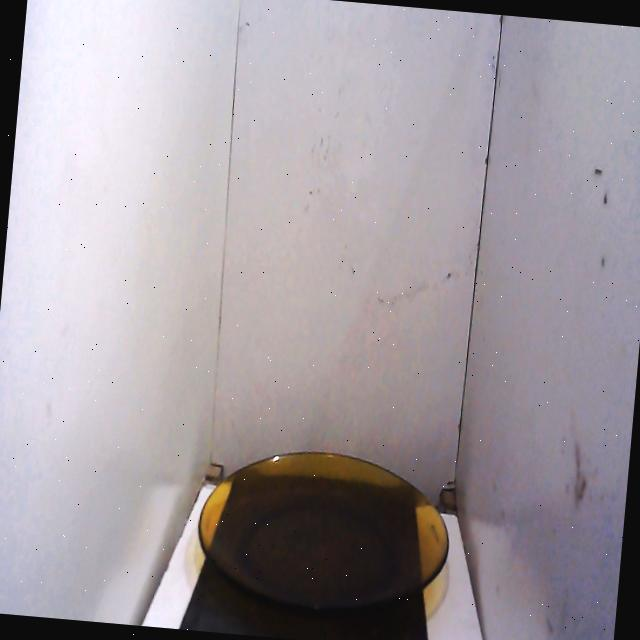vidro: (180, 418, 464, 640)
